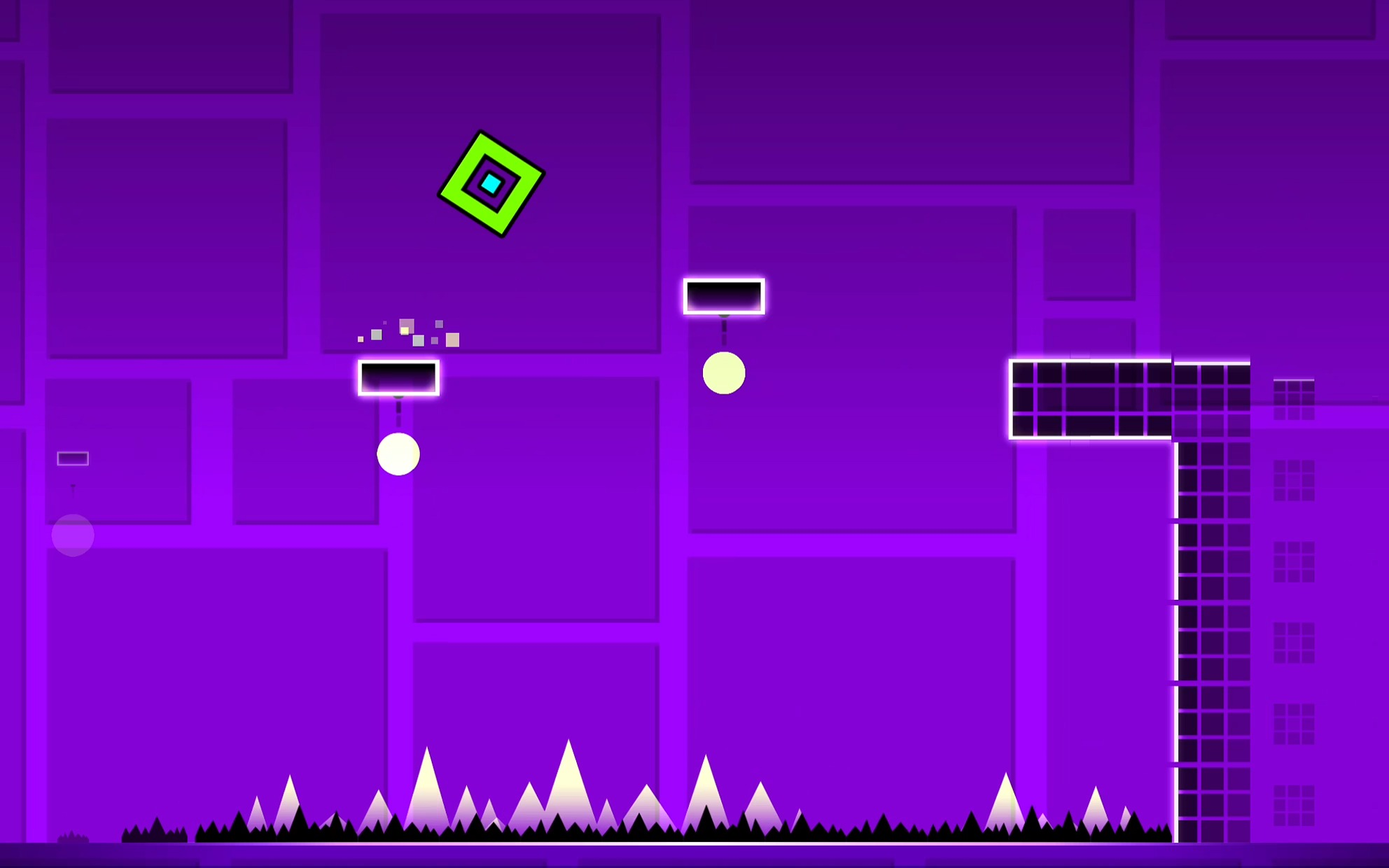Block2: (1179, 363, 1252, 852), (1008, 359, 1175, 436)
Block3: (356, 359, 442, 396), (683, 277, 767, 314)
Player: (438, 132, 544, 237)
Spike2: (16, 792, 1133, 848)
